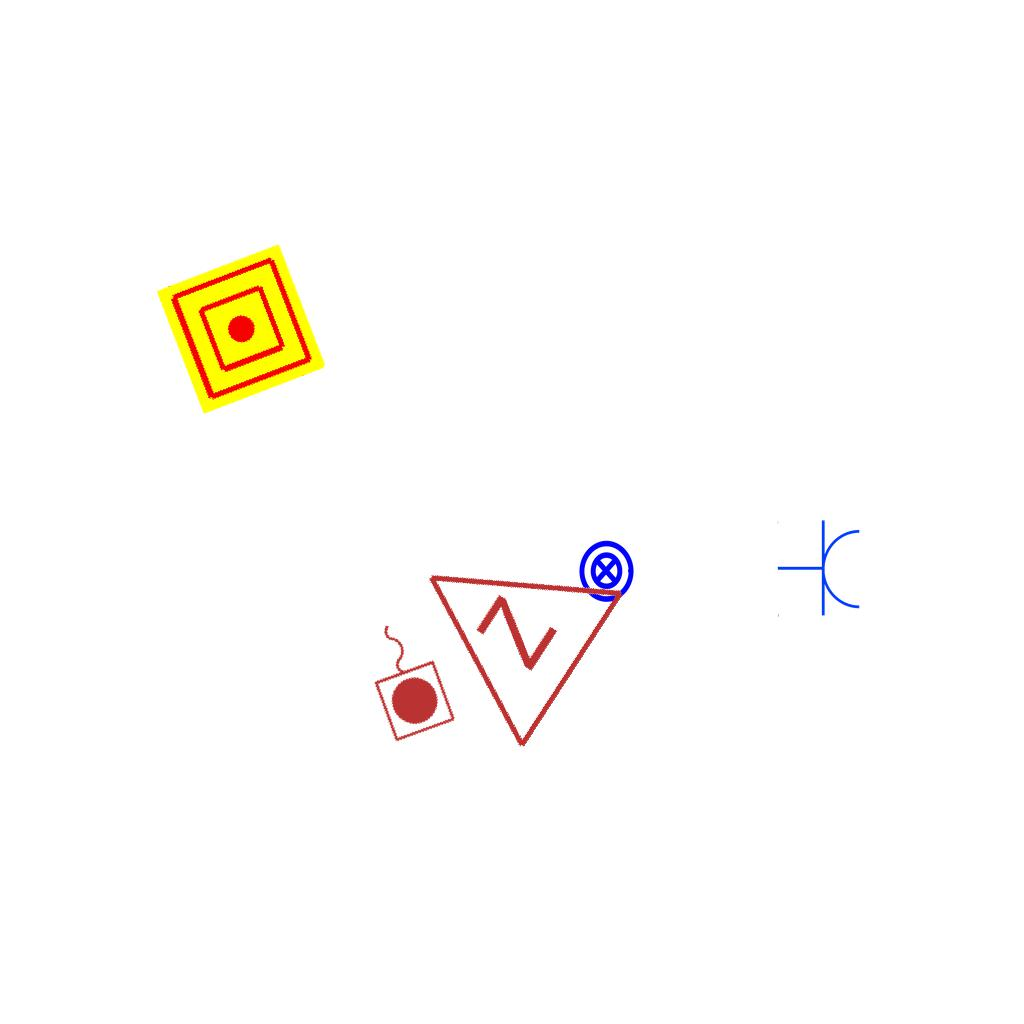NAM-Nichtautomatischer_Melder: (155, 243, 327, 415)
Schukosteckdose_einfach: (777, 519, 864, 619)
Taster_beleuchtet: (573, 538, 639, 604)
Zimmersignalleuchte: (363, 489, 639, 763)
Zugtaster: (352, 607, 462, 747)
